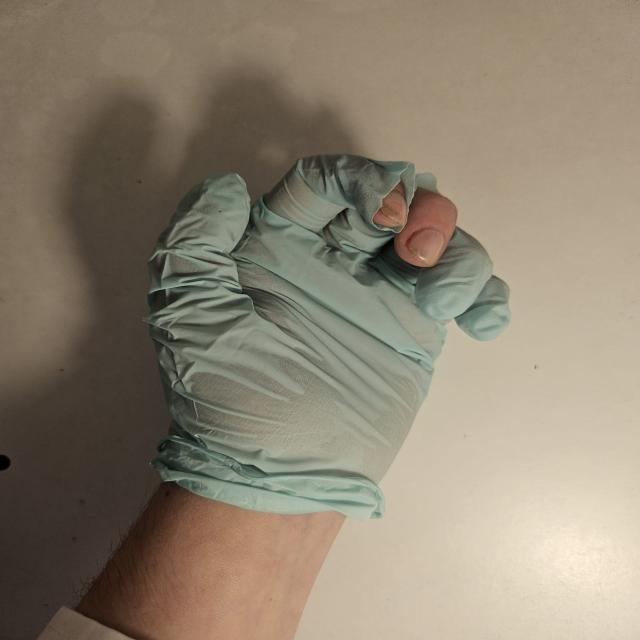gloves_damaged: (149, 153, 513, 531)
